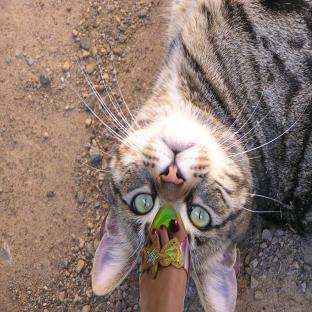Animal: (92, 0, 312, 312)
